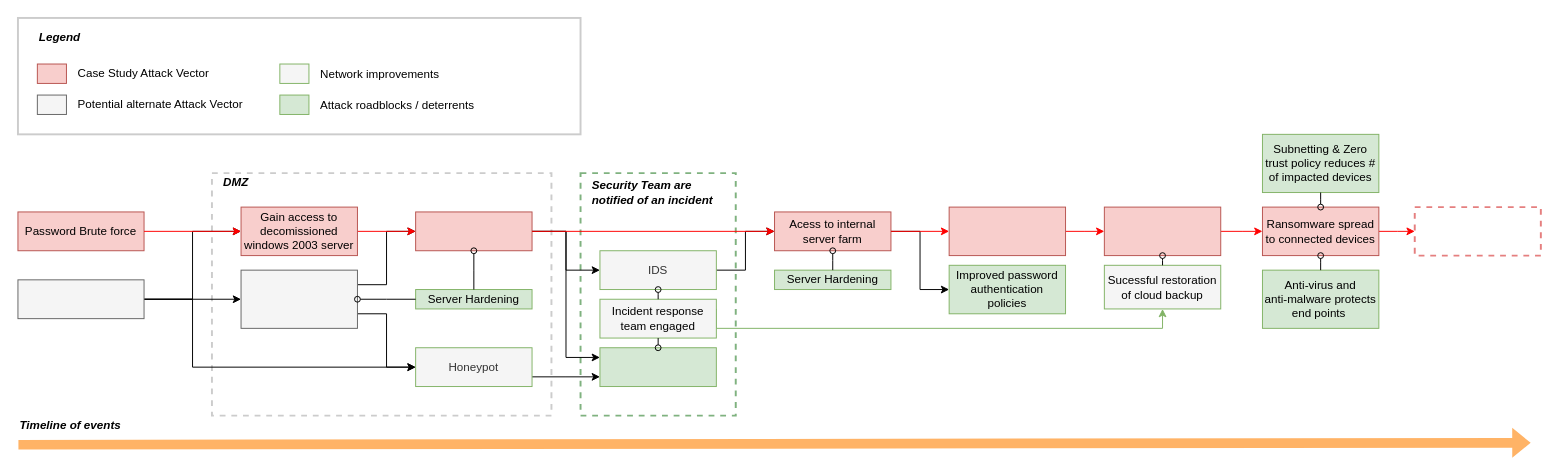
Image size: 1558x474. Some labels were removed from this diagram. Here are the shapes that lost their labels. From the top down, the centre of each, then its label:
the point at 473,231: Access to Backup server
the point at 1007,231: Elevate to administrator privileges
the point at 1162,231: Ransomware deployed to servers
the point at 1477,231: Security Team are notified of the incident
the point at 80,299: Social Engineering via Phishing
the point at 298,298: Other DMZ vulnerabilities (e.g misconfigured port)
the point at 657,367: IPS Alert and containment
